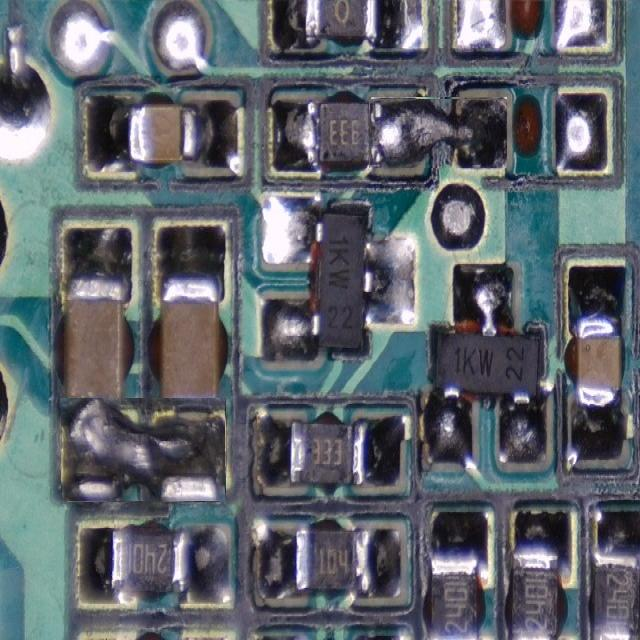Short_circuit: (62, 399, 224, 500), (369, 98, 507, 168)
